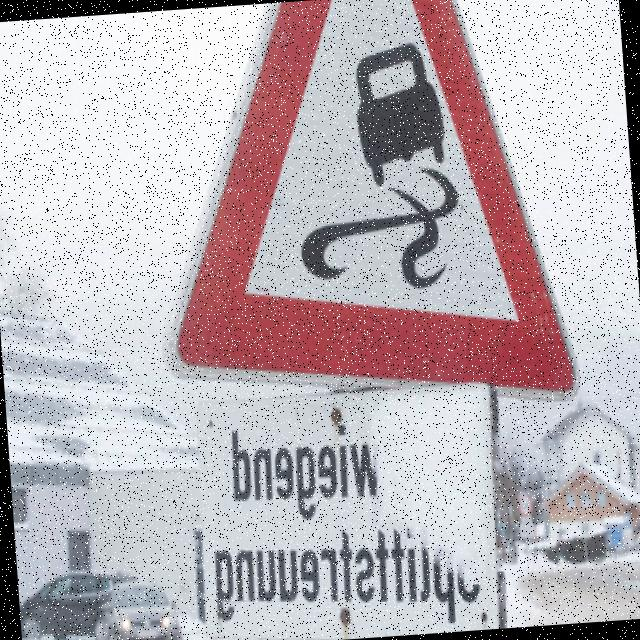road_slippery: (158, 0, 583, 423)
